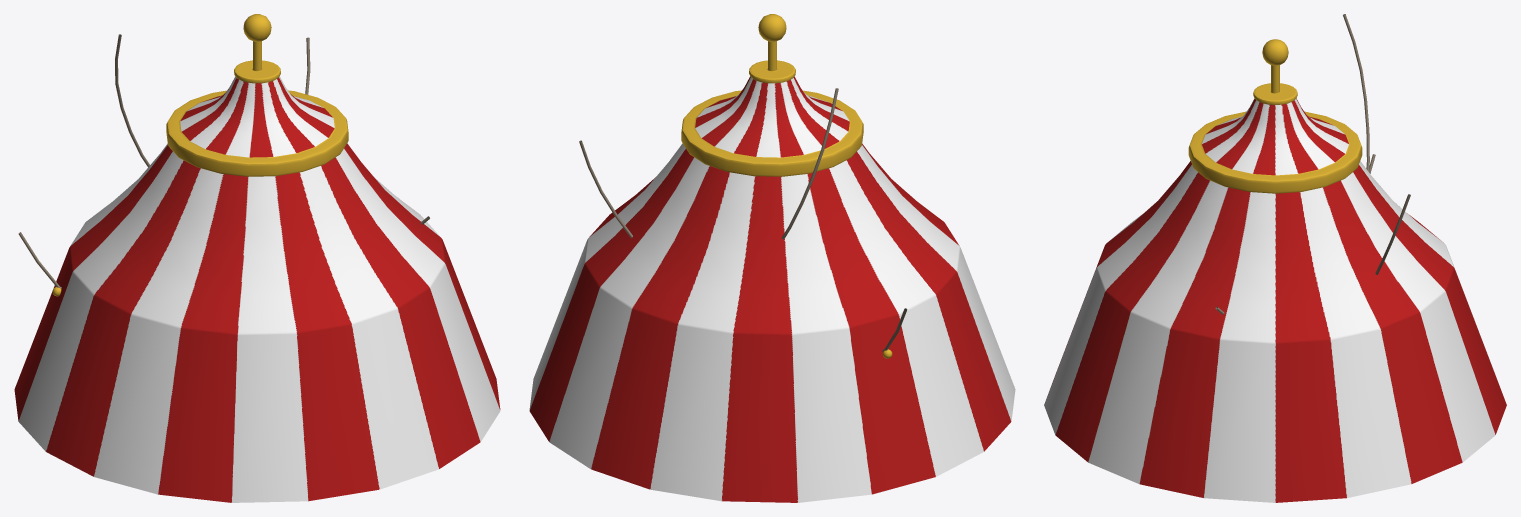
File: TentInsidefbx.fbx
The picture shows the model from 3 angles, left to right: view 1: azimuth 30°, elevation 25°; view 2: azimuth 150°, elevation 25°; view 3: azimuth 270°, elevation 25°; orthographic projection. The views are drawn at different scales.
Parts seen in each view (by area): view 1: TentInside; view 2: TentInside; view 3: TentInside.
Boxes of the visible parts, bbox=[...] form: TentInside: bbox=[14, 14, 500, 502]; TentInside: bbox=[529, 14, 1015, 502]; TentInside: bbox=[1044, 14, 1506, 502].
Bounding box in the file's own units: 9.74 × 8.46 × 9.74.
1 material, 1 textured.
